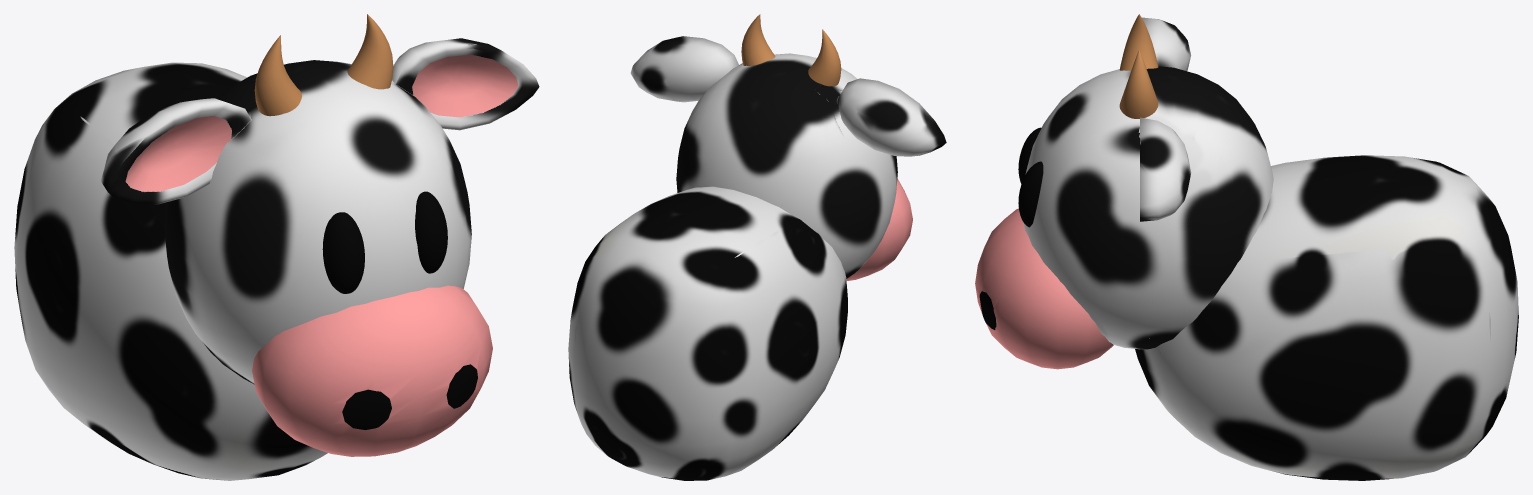
File: cow.glb
The picture shows the model from 3 angles, left to right: view 1: azimuth 30°, elevation 25°; view 2: azimuth 150°, elevation 25°; view 3: azimuth 270°, elevation 25°; orthographic projection. The views are drawn at different scales.
Parts seen in each view (by area): view 1: Vaca.001; view 2: Vaca.001; view 3: Vaca.001.
Part boxes in pixels (x1=…): Vaca.001: x1=14, y1=14, x2=539, y2=480; Vaca.001: x1=568, y1=14, x2=946, y2=480; Vaca.001: x1=975, y1=14, x2=1518, y2=480.
Size of the model in its own units: 2.11 by 2.4 by 2.73.
5 materials, 2 textured.
